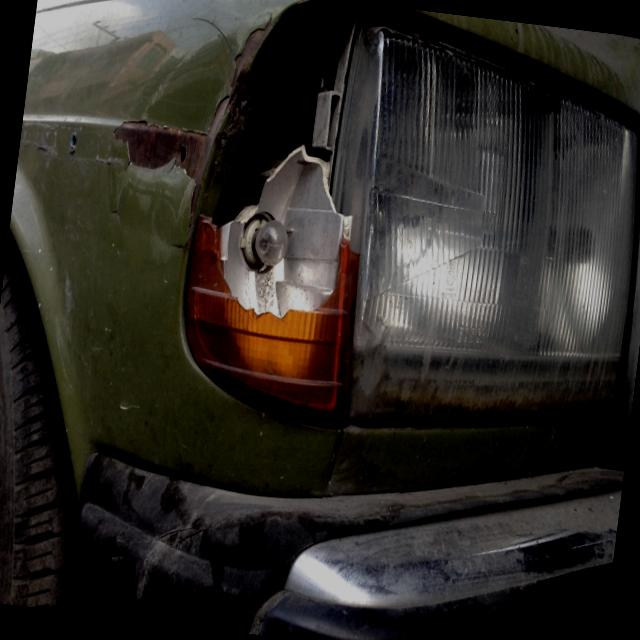Phare abime: (173, 7, 394, 428)
Rayure: (94, 103, 212, 190), (17, 114, 62, 166)
